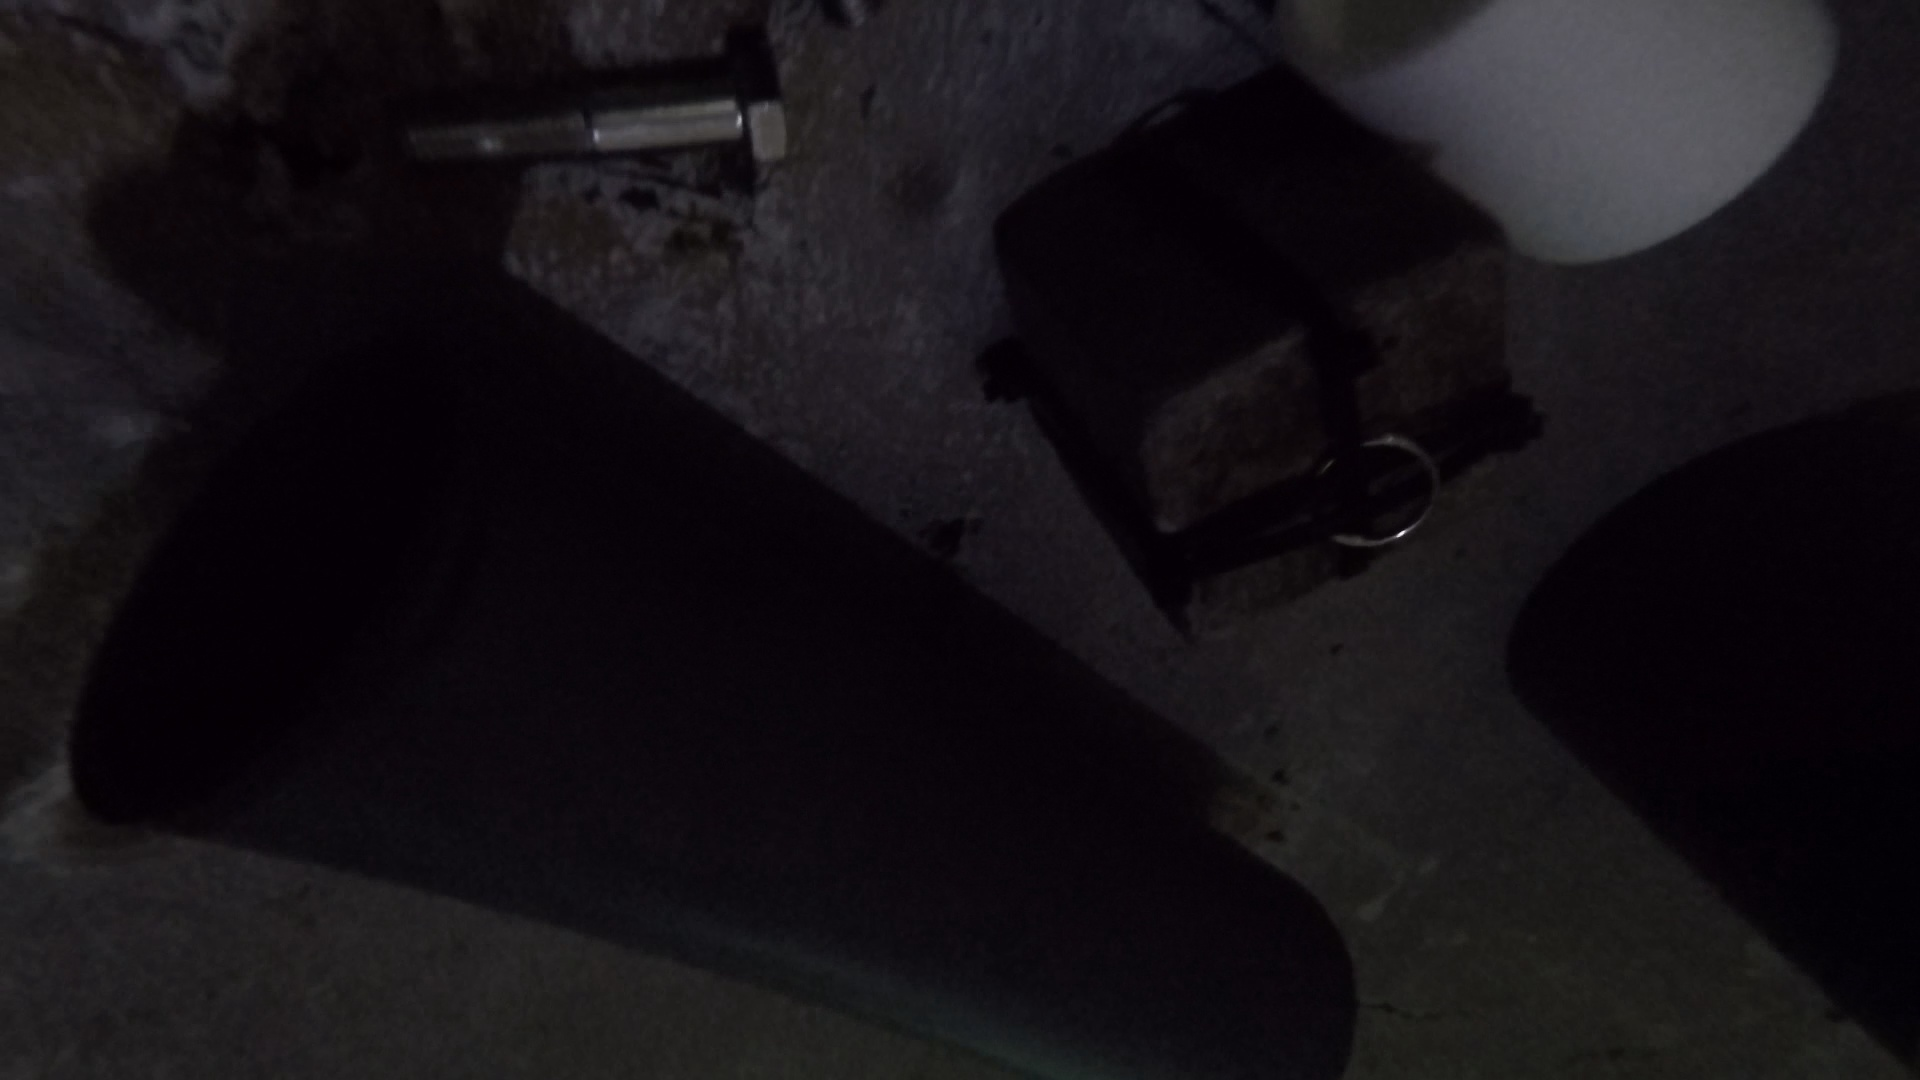bolt: (378, 51, 795, 186)
led_block: (978, 66, 1549, 644)
pipe: (65, 313, 1357, 1077), (1507, 392, 1920, 1079), (1280, 1, 1844, 269)
